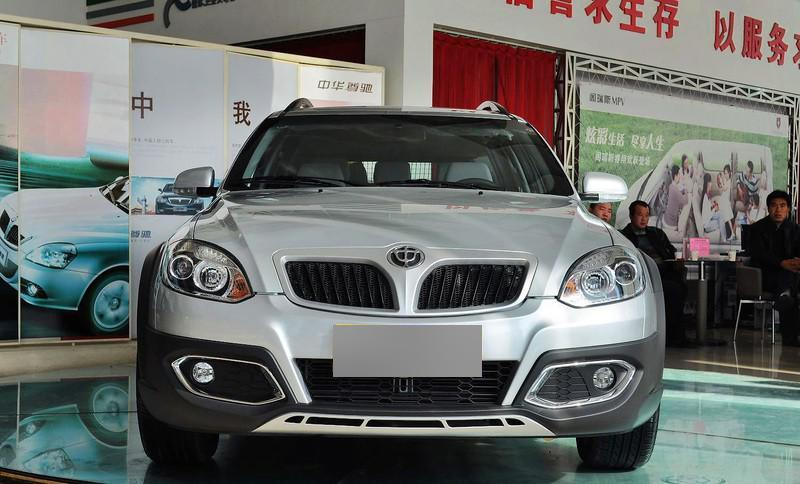Wagon: (134, 97, 667, 471)
